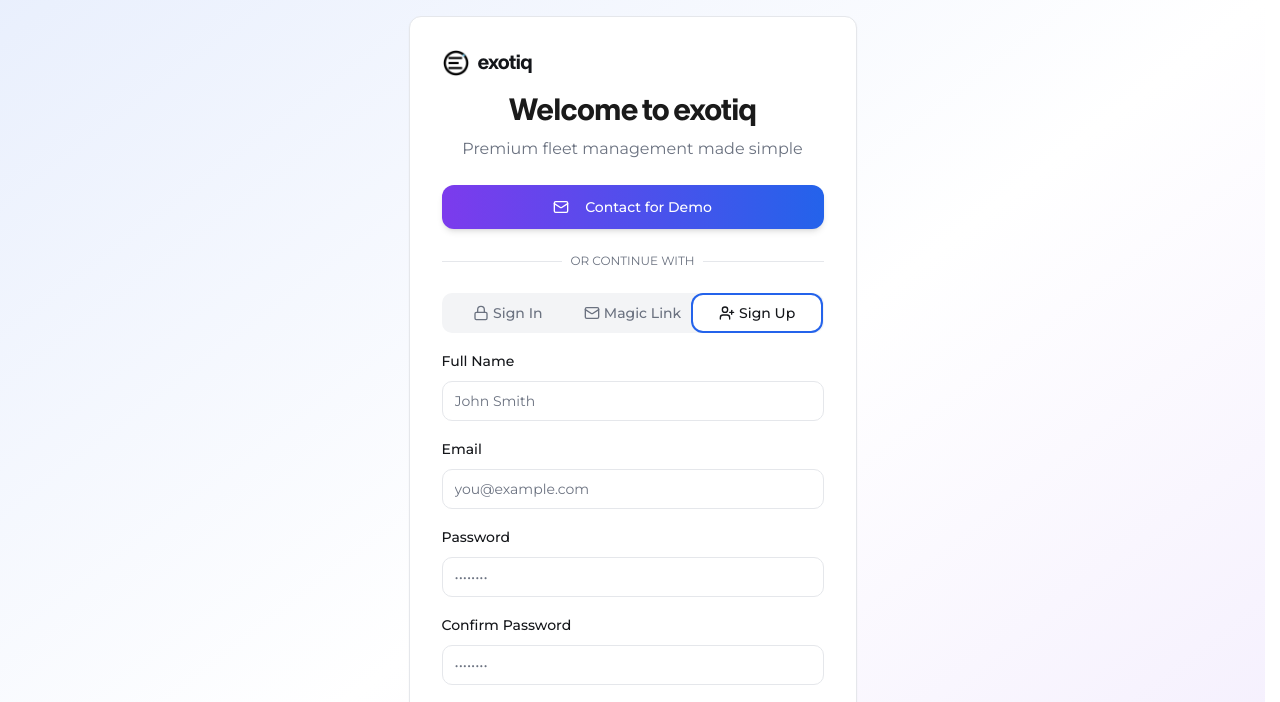
Test: Auth page smoke — sign-up tab › sign-up submit with mismatched passwords shows validation error and does NOT call signUp (FD-11)
Earlier steps of the test are not shown.
Step 1. Type "Jane Doe" into the field labelled "Full Name" → (632, 401), box x1=442 y1=381 x2=824 y2=421
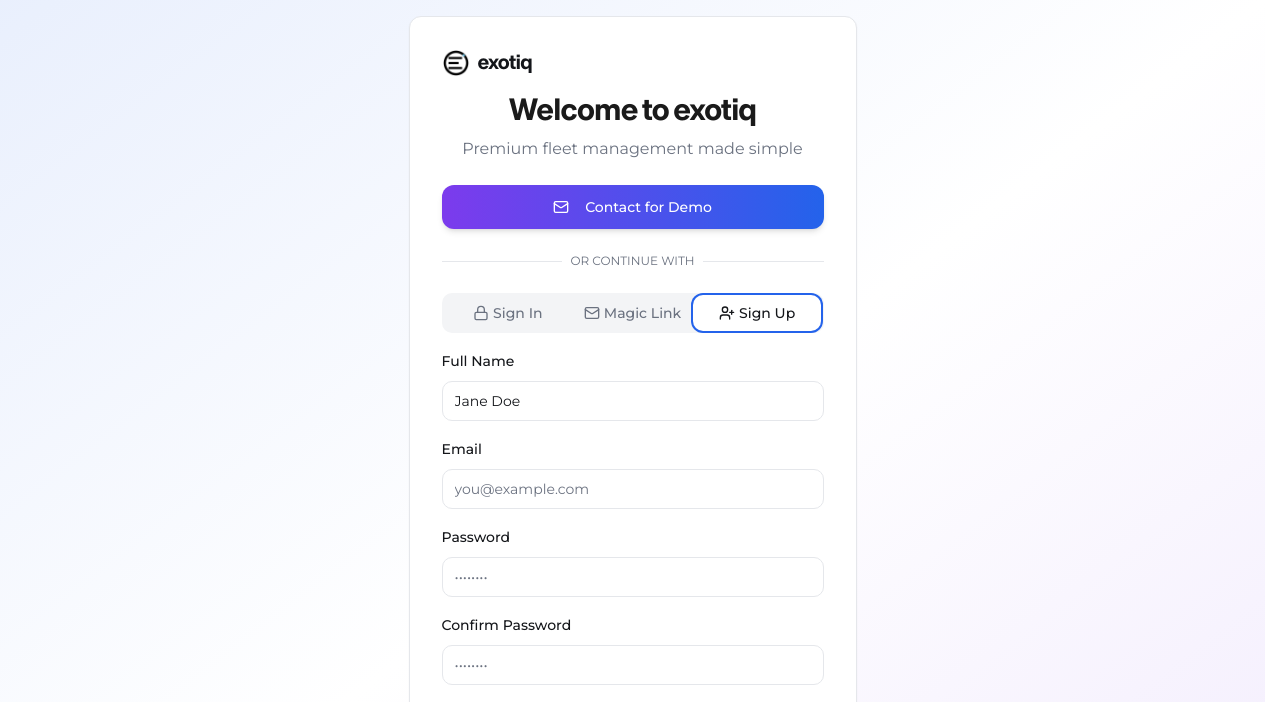
Step 2. Type "jane@example.com" into the field with id "signup-email" → (632, 489), box x1=442 y1=469 x2=824 y2=509
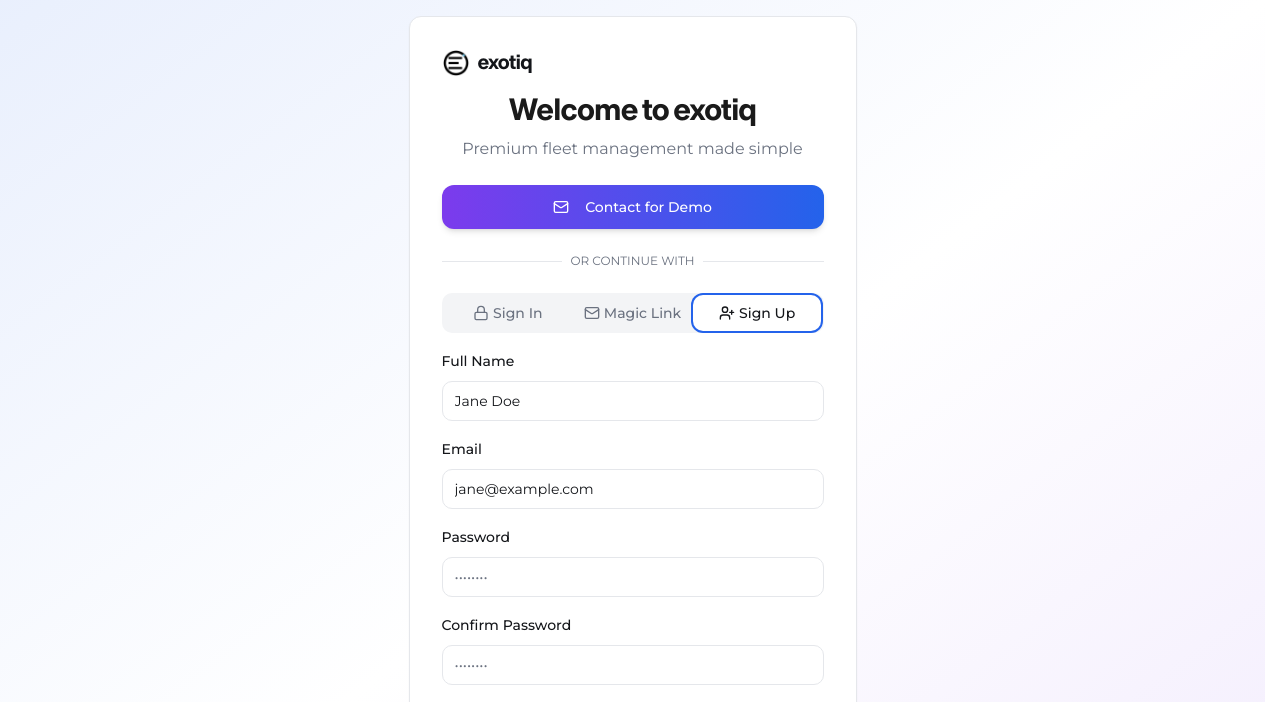
Step 3. Type "password123" into the password field with id "signup-password" → (632, 577), box x1=442 y1=557 x2=824 y2=597
(page scrolled)
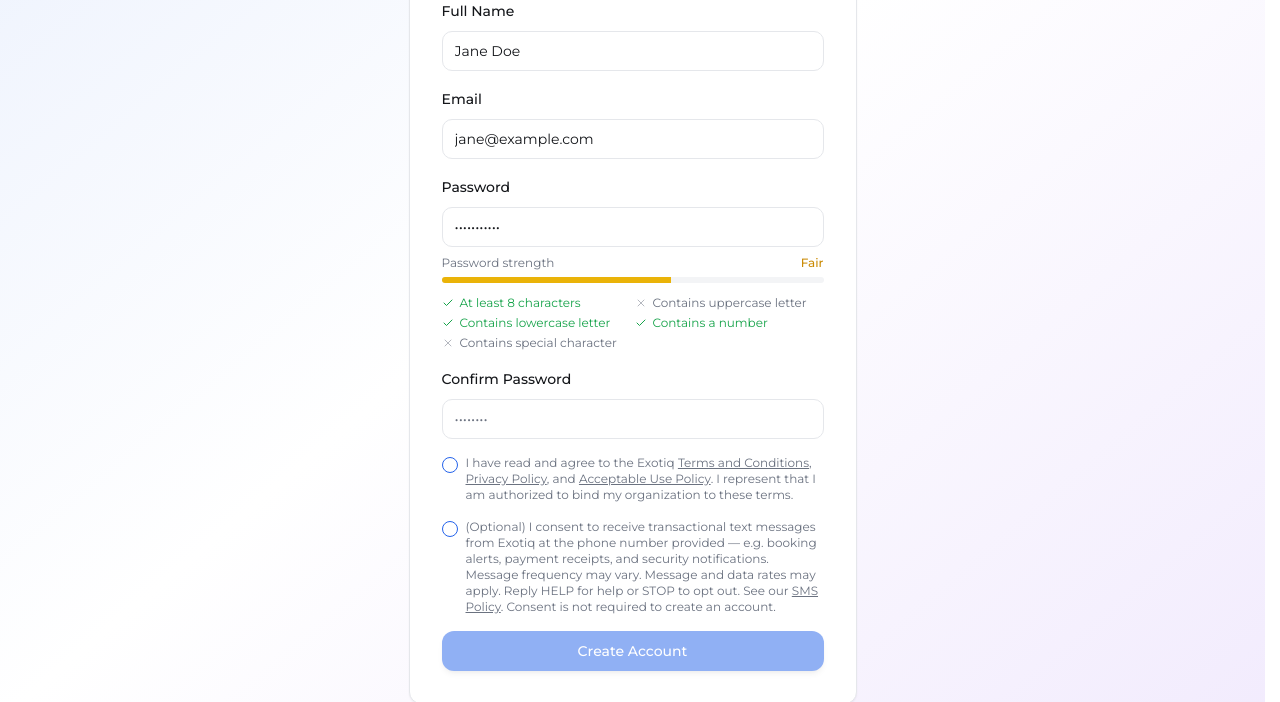
Step 4. Type "differentpassword" into the password field with id "signup-confirm-password" → (632, 419), box x1=442 y1=399 x2=824 y2=439
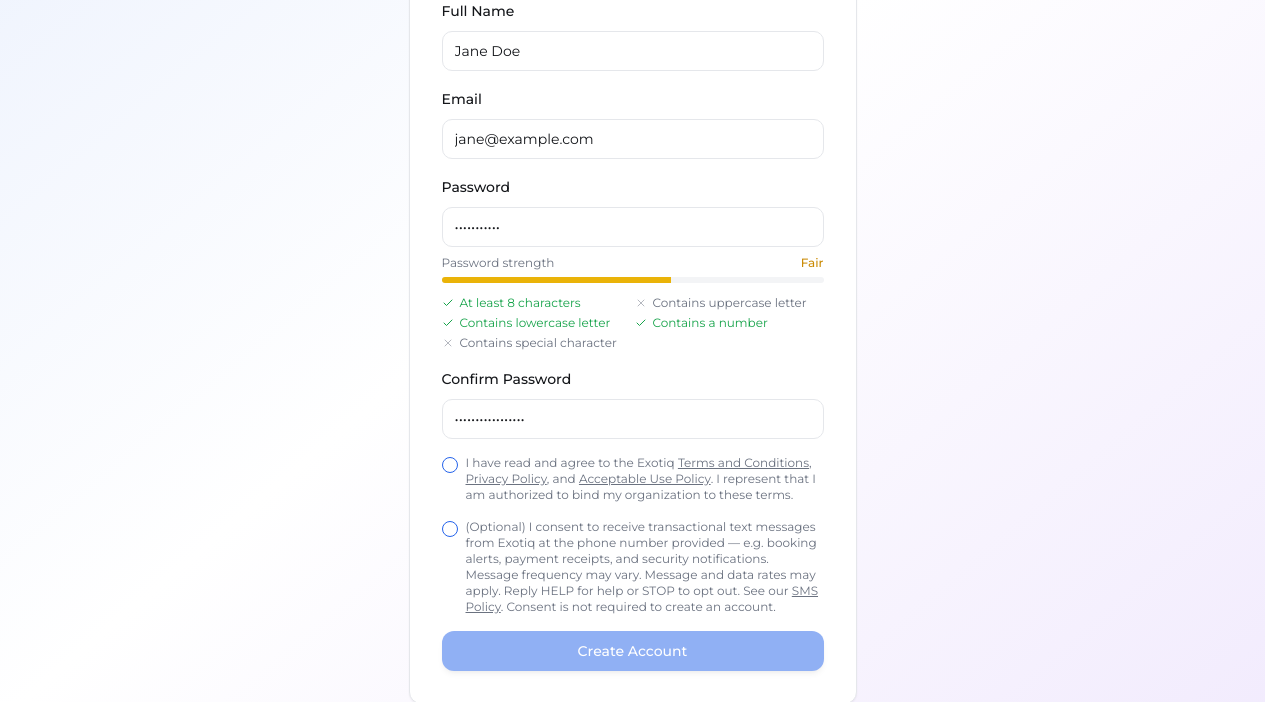
Step 5. Submit the form labelled "Full Name", box x1=442 y1=0 x2=824 y2=671
(page scrolled)
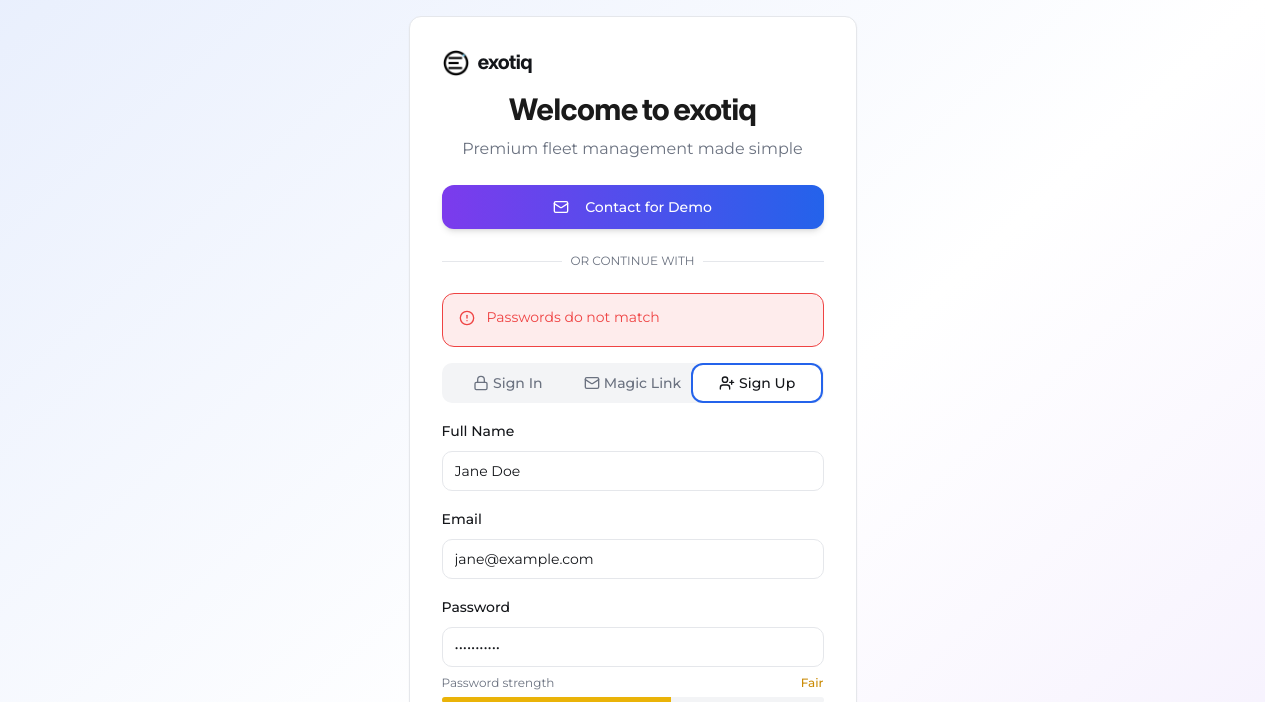
Now the message "Passwords do not match" is shown, box x1=442 y1=293 x2=824 y2=347
